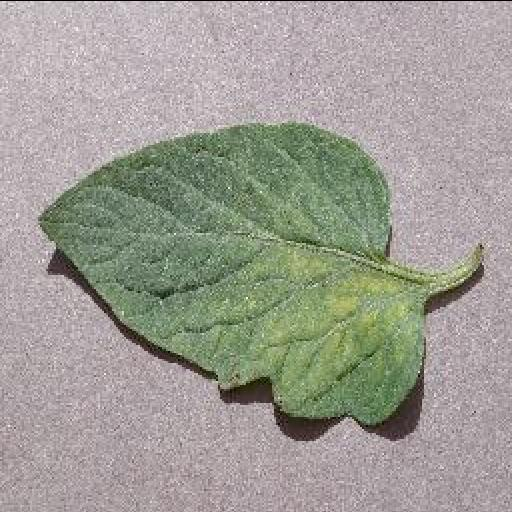disease_tomato: (36, 120, 426, 424)
